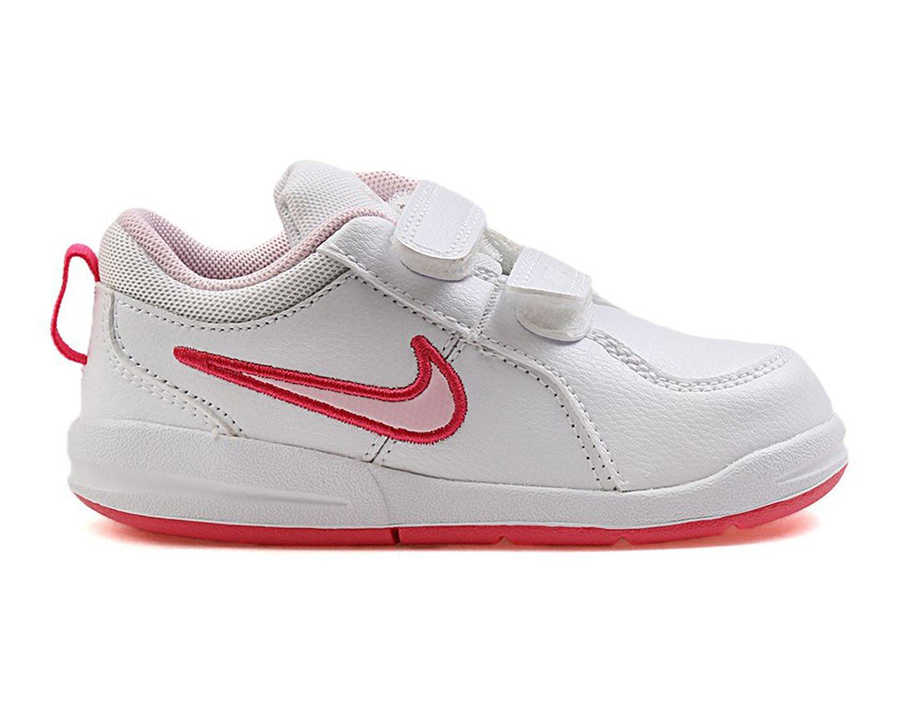nike: (177, 337, 471, 443)
